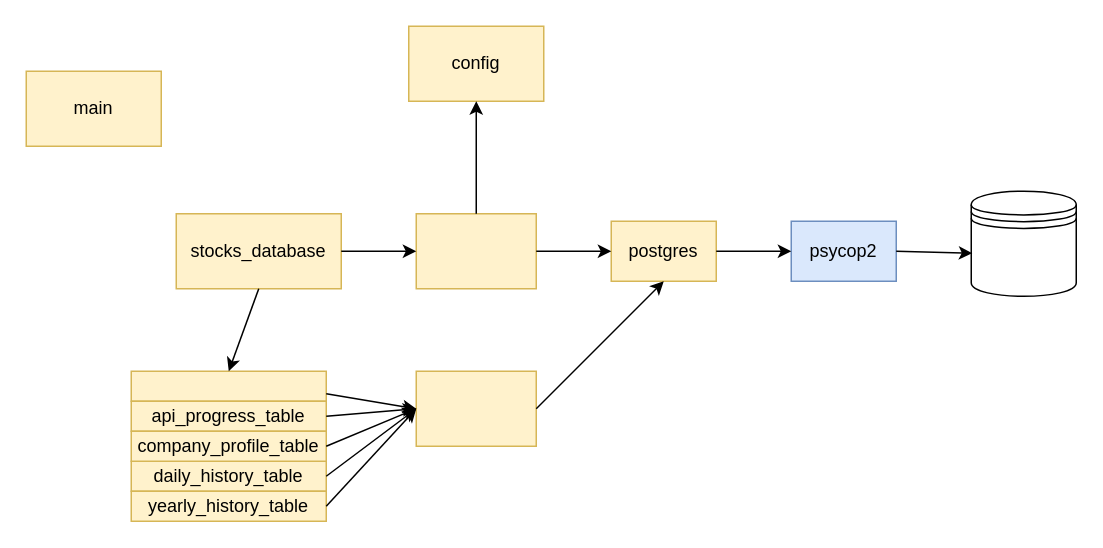
Image size: 1103x548. Some labels were removed from this diagram. Here are the shapes that lost their labels. From the top down, the box of each, then its label:
(415, 212, 536, 289): database
(970, 190, 1076, 296): Postgres DB
(130, 370, 326, 401): tickers_table
(415, 370, 536, 446): table
